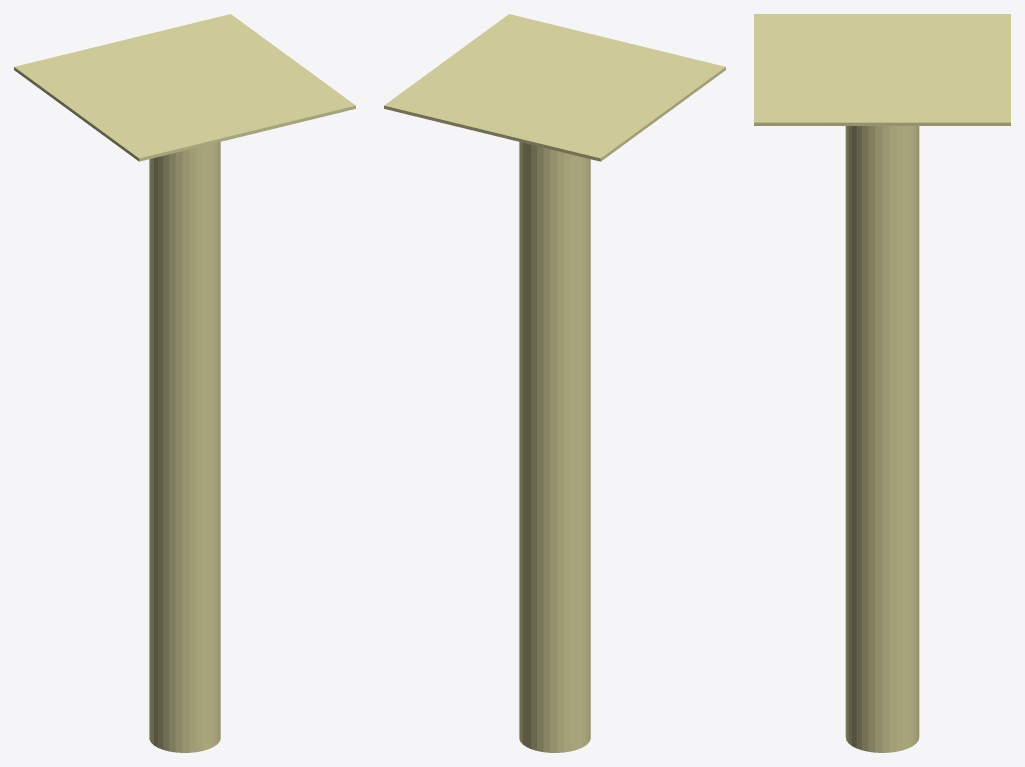
The model's file is task3_35_x_35.dae.
3 renders of one model, left to right at view 1: azimuth 30°, elevation 25°; view 2: azimuth 150°, elevation 25°; view 3: azimuth 270°, elevation 25°, orthographic. The views are drawn at different scales.
Visible parts, largest first — view 1: Cylinder; view 2: Cylinder; view 3: Cylinder.
Boxes of the visible parts, <box> form: Cylinder: <box>14,14,355,752</box>; Cylinder: <box>384,14,725,752</box>; Cylinder: <box>754,14,1010,752</box>.
Bounding box in the file's own units: 0.3498 × 0.3498 × 1.01.
